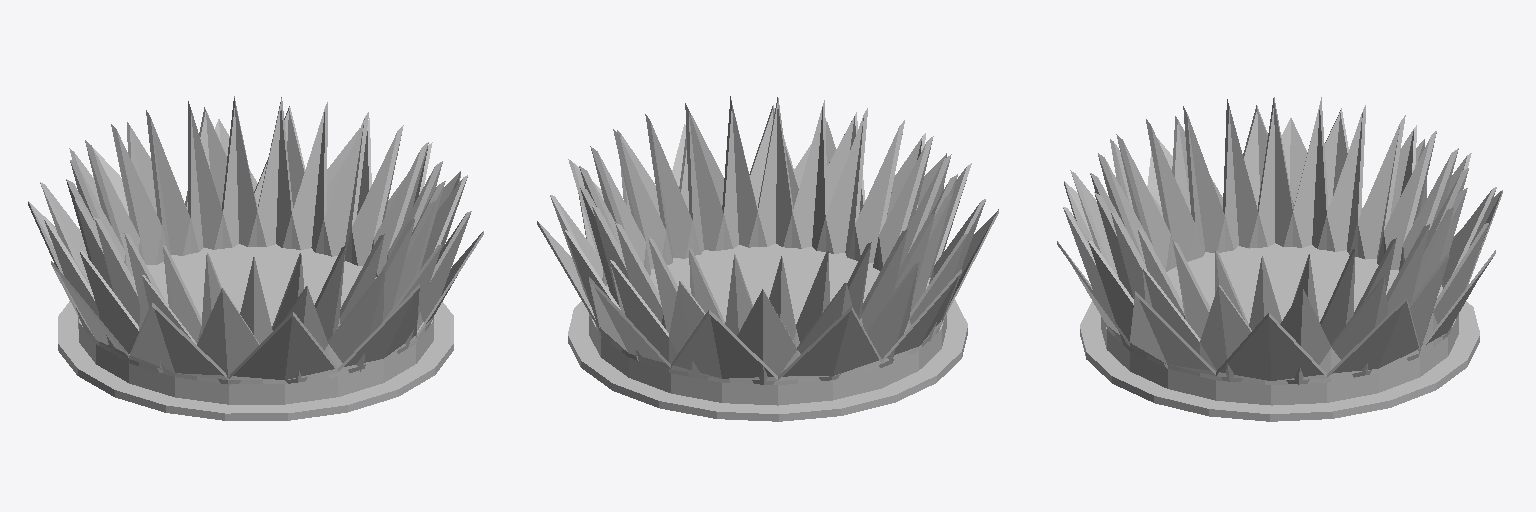
Rendered from portal_abrir_000041.obj.
The picture shows the model from 3 angles: view 1: azimuth 30°, elevation 25°; view 2: azimuth 150°, elevation 25°; view 3: azimuth 270°, elevation 25°; orthographic projection.
Parts seen in each view (by area): view 1: Cylinder.001, pCylinder1, Cylinder; view 2: Cylinder.001, pCylinder1, Cylinder; view 3: Cylinder.001, pCylinder1, Cylinder.
Boxes of the visible parts, x1=… form: Cylinder.001: x1=66, y1=96, x2=445, y2=343; pCylinder1: x1=28, y1=119, x2=483, y2=420; Cylinder: x1=40, y1=106, x2=471, y2=384; Cylinder.001: x1=579, y1=96, x2=957, y2=346; pCylinder1: x1=537, y1=121, x2=998, y2=421; Cylinder: x1=550, y1=105, x2=985, y2=384; Cylinder.001: x1=1090, y1=97, x2=1468, y2=344; pCylinder1: x1=1057, y1=118, x2=1502, y2=421; Cylinder: x1=1063, y1=105, x2=1496, y2=384.
Size of the model in its own units: 7.08 by 2.75 by 6.84.